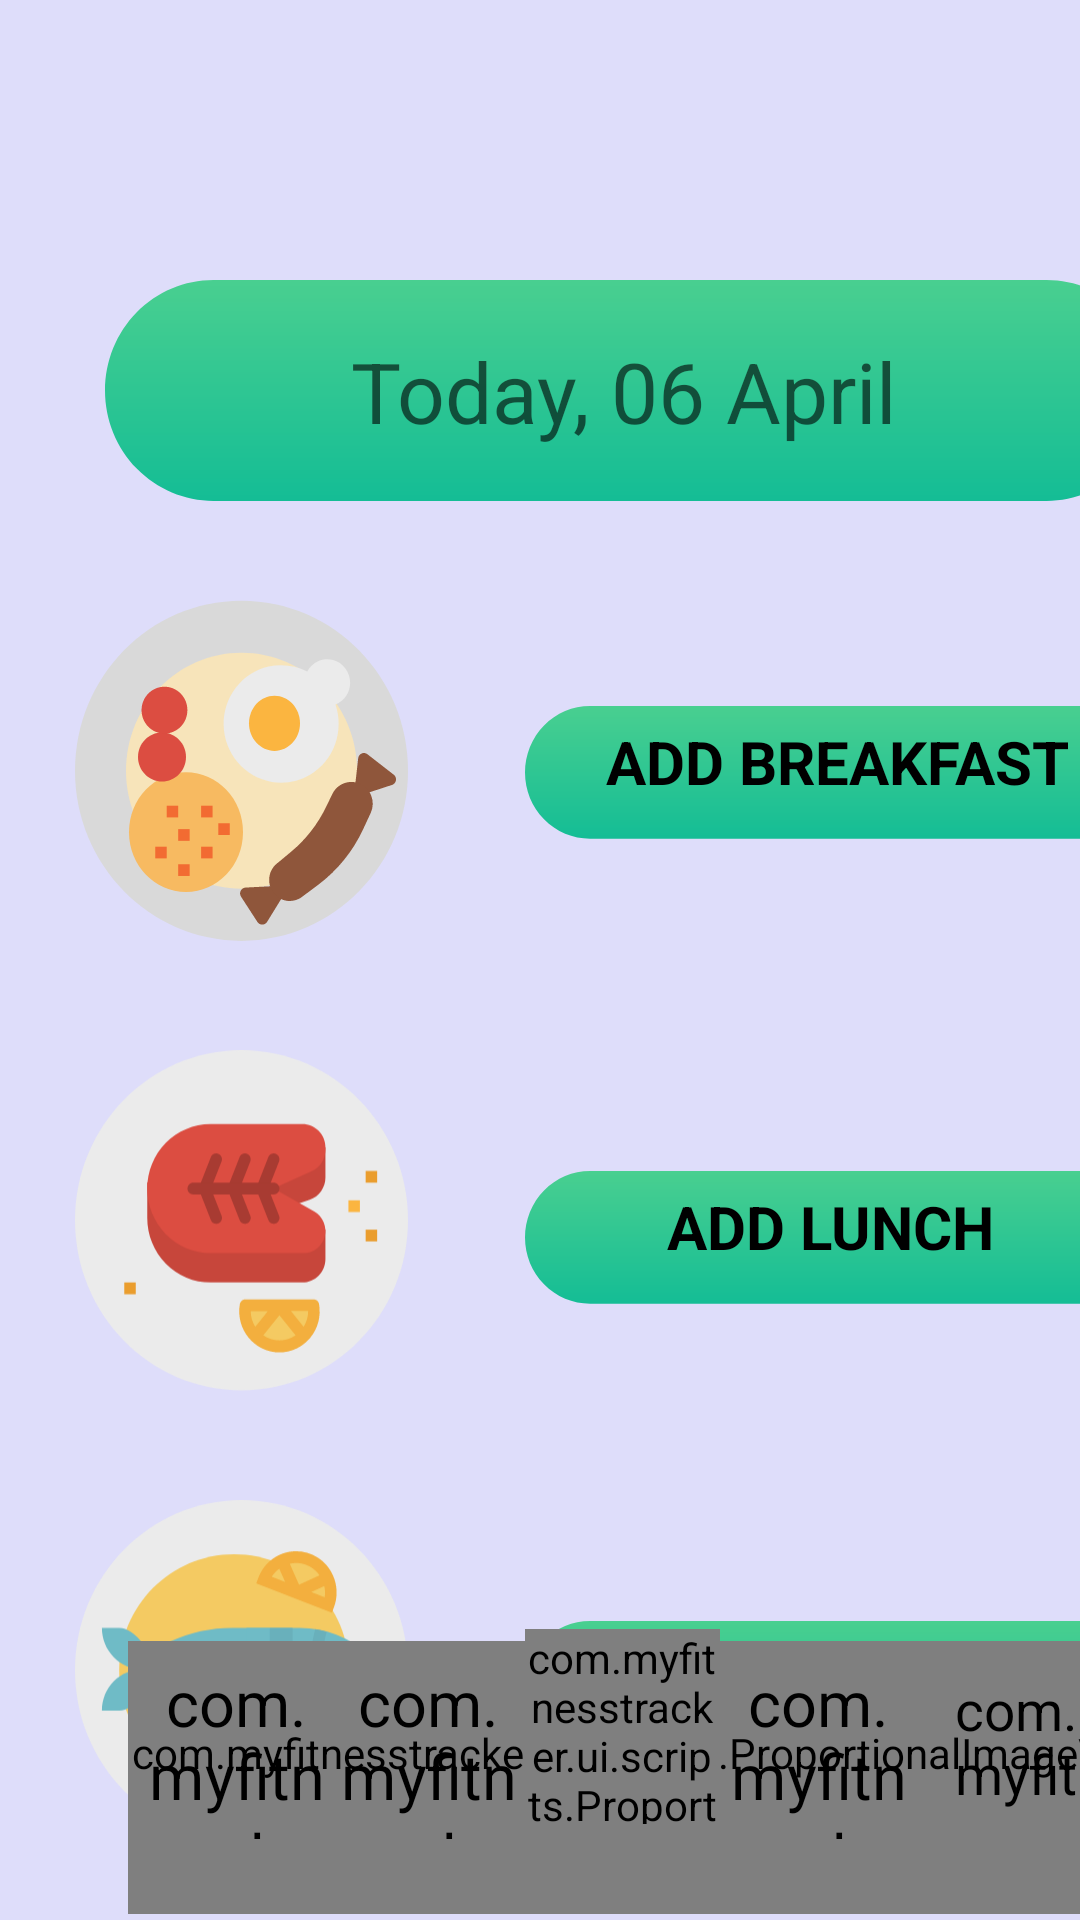

Icons on this 1080*1920 Android screen, each with the point to tap as (x=x, y=y):
iconbreakfast: (x=241, y=771)
iconlunch: (x=251, y=1238)
